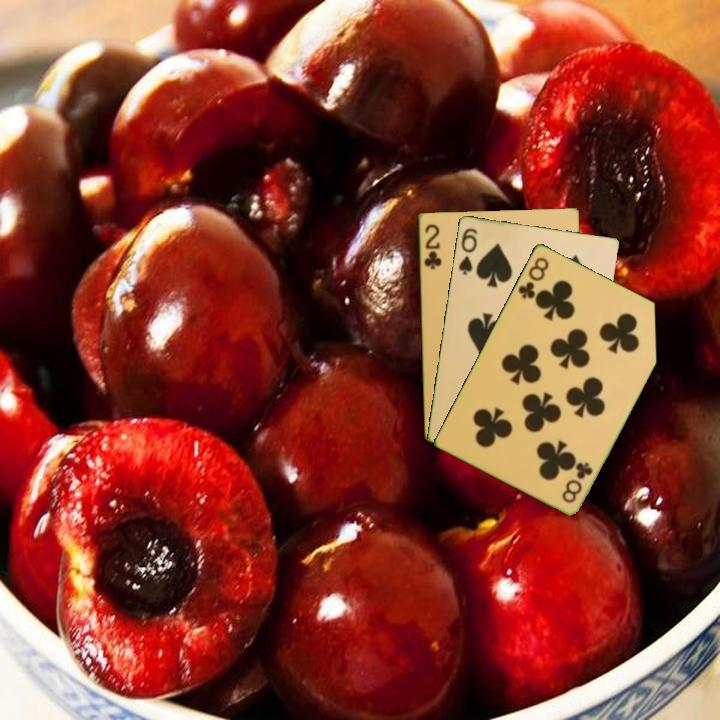2c: (420, 220, 444, 272)
6s: (455, 224, 480, 277)
8c: (514, 253, 552, 301), (558, 458, 596, 506)
